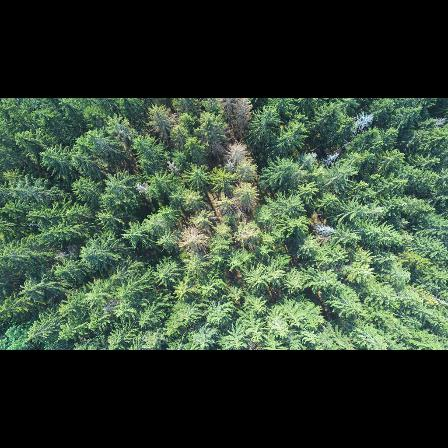Dead: (350, 111, 376, 134), (226, 140, 248, 164), (311, 221, 337, 239), (133, 182, 151, 198), (323, 152, 340, 166), (165, 160, 179, 174)
